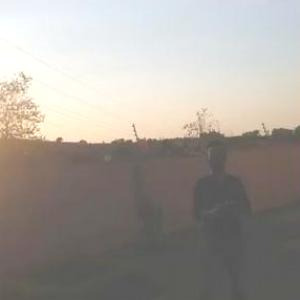follow: (186, 132, 261, 299)
